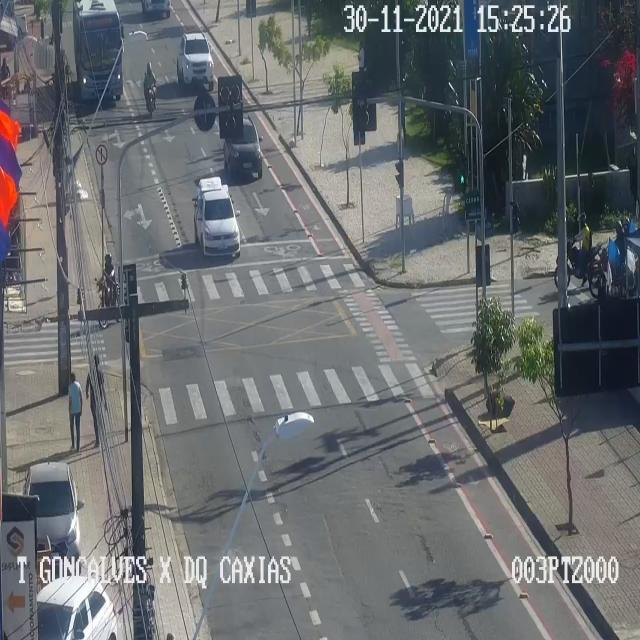Bus: (74, 1, 127, 106)
Car: (23, 457, 84, 563), (36, 575, 118, 639), (194, 177, 240, 258), (224, 116, 263, 182), (176, 30, 214, 88)
Motorcycle: (590, 218, 640, 295), (555, 212, 600, 290), (94, 253, 122, 328), (143, 61, 157, 118)
Truck: (143, 0, 175, 23)
